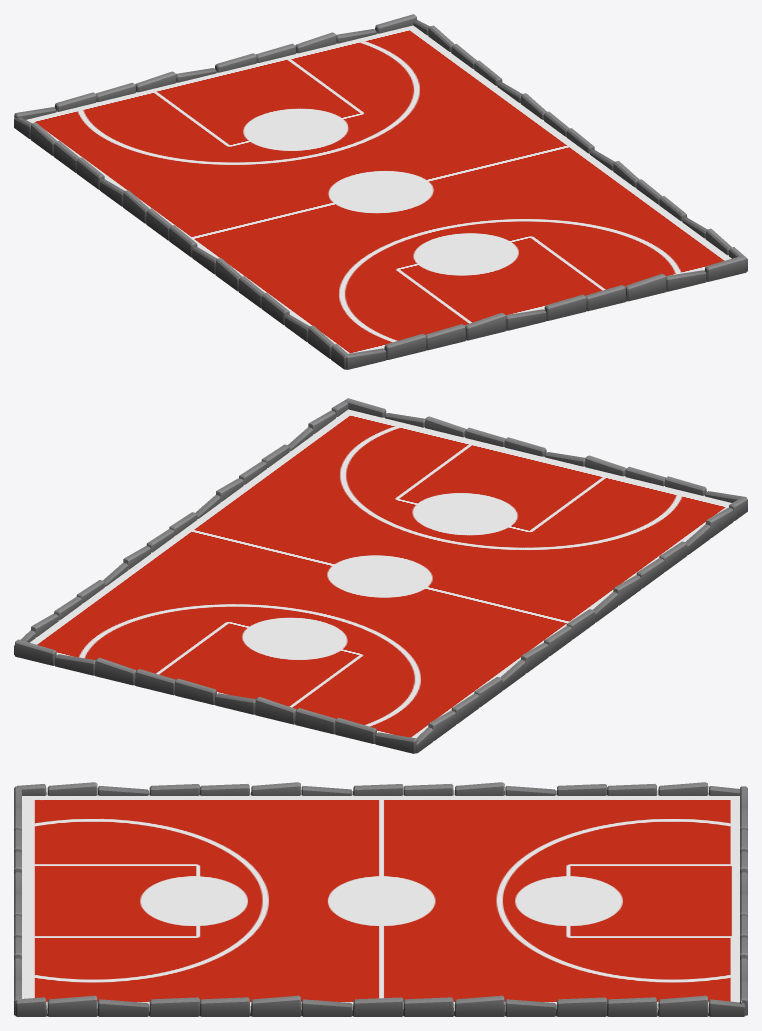
The model's file is basketball_court.fbx.
3 views of the same model, one above another, from view 1: azimuth 30°, elevation 25°; view 2: azimuth 150°, elevation 25°; view 3: azimuth 270°, elevation 25° (orthographic). The views are drawn at different scales.
Visible parts, largest first — view 1: Basketball_court; view 2: Basketball_court; view 3: Basketball_court.
Part boxes in pixels (left/top/right/bottom): Basketball_court: left=14, top=14, right=747, bottom=369; Basketball_court: left=14, top=398, right=747, bottom=753; Basketball_court: left=14, top=782, right=747, bottom=1016.
Bounding box in the file's own units: 1009 × 40 × 1442.
